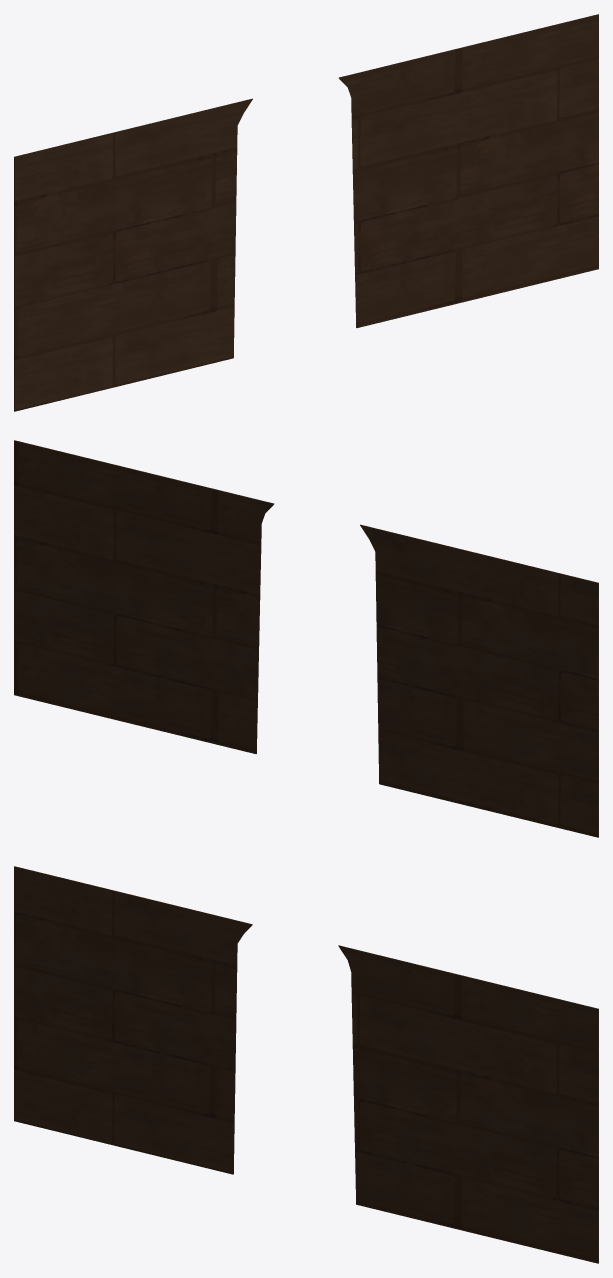
File: W_Shop_6x25_Door.fbx
3 renders of one model, top to bottom at view 1: azimuth 30°, elevation 25°; view 2: azimuth 150°, elevation 25°; view 3: azimuth 330°, elevation 25°, orthographic.
Visible parts, largest first — view 1: W_Shop_6x26; view 2: W_Shop_6x26; view 3: W_Shop_6x26.
Boxes of the visible parts, left/top/right/bottom form: W_Shop_6x26: left=14, top=14, right=598, bottom=411; W_Shop_6x26: left=14, top=440, right=598, bottom=837; W_Shop_6x26: left=14, top=866, right=598, bottom=1263.
Size of the model in its own units: 601 by 250 by 1.
